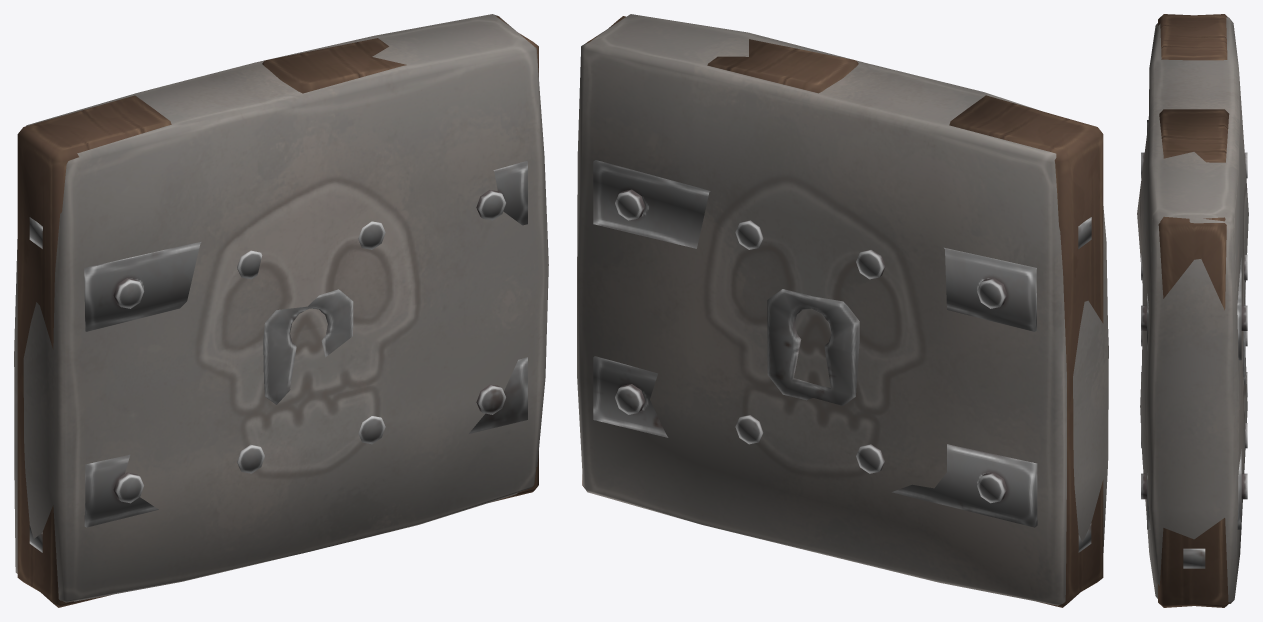
Rendered from 3doors_1.fbx.
3 views of the same model, side by side, from view 1: azimuth 30°, elevation 25°; view 2: azimuth 150°, elevation 25°; view 3: azimuth 270°, elevation 25° (orthographic). The views are drawn at different scales.
Parts seen in each view (by area): view 1: monsterDoor_low, doorWood_intact, metalDoor_low; view 2: monsterDoor_low, doorWood_intact, metalDoor_low; view 3: monsterDoor_low, doorWood_intact, metalDoor_low.
Part boxes in pixels (bbox=[...]): monsterDoor_low: bbox=[14, 14, 548, 602]; doorWood_intact: bbox=[17, 16, 538, 607]; metalDoor_low: bbox=[29, 217, 353, 552]; monsterDoor_low: bbox=[577, 14, 1108, 605]; doorWood_intact: bbox=[582, 16, 1103, 607]; metalDoor_low: bbox=[767, 217, 1091, 552]; monsterDoor_low: bbox=[1137, 17, 1248, 603]; doorWood_intact: bbox=[1141, 14, 1247, 607]; metalDoor_low: bbox=[1183, 290, 1245, 568].
Bounding box in the file's own units: 446 × 401 × 102.
1 material, 1 textured.
